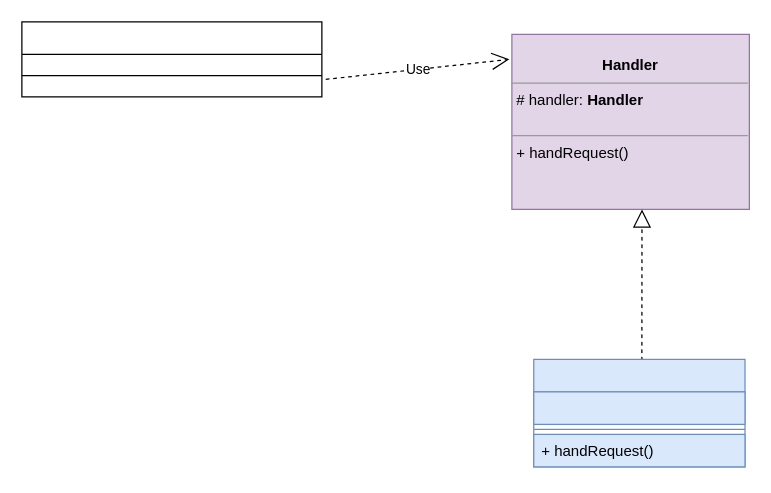
Image size: 771x493. Some labels were removed from this diagram. Here are the shapes that lost their labels. From the top down, the box of each, then its label:
(21, 21, 322, 97): Client
(532, 358, 745, 467): ConcreteHandler
